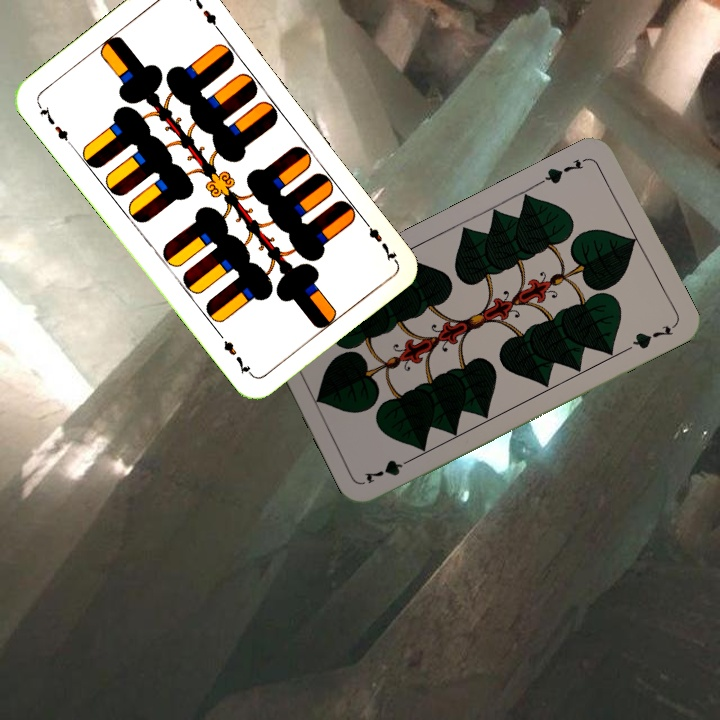E7: (33, 99, 76, 149), (358, 213, 399, 264)
G7: (361, 452, 418, 487), (536, 153, 591, 187)
